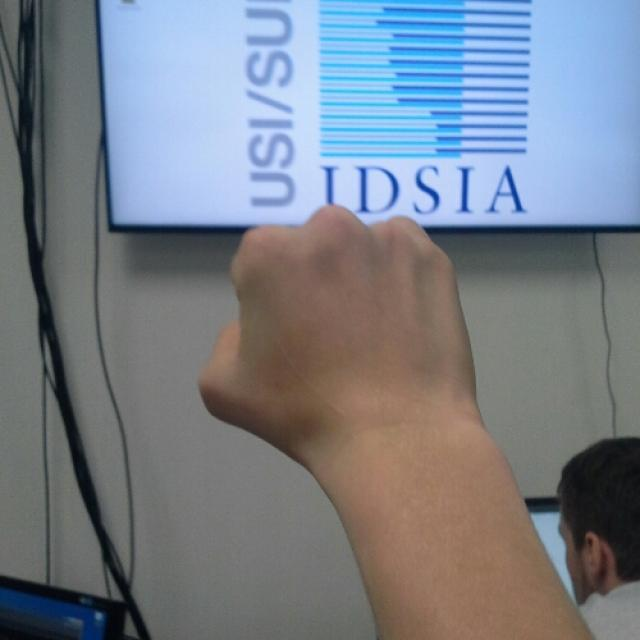fist: (201, 205, 476, 480)
